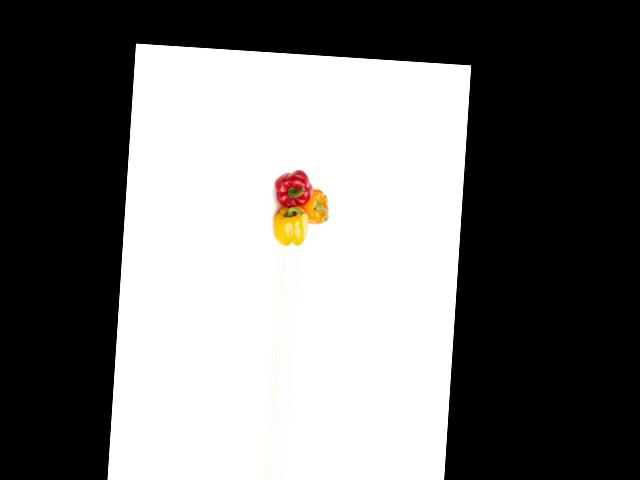bell_pepper: (269, 207, 310, 247)
